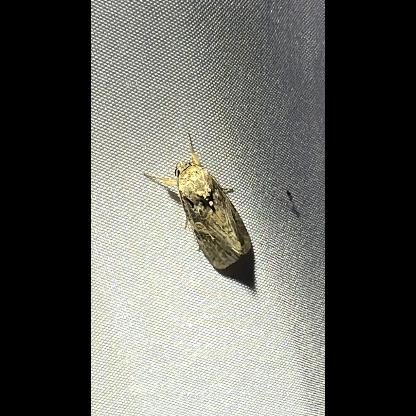Fall Armyworm Moth: (141, 130, 253, 274)
